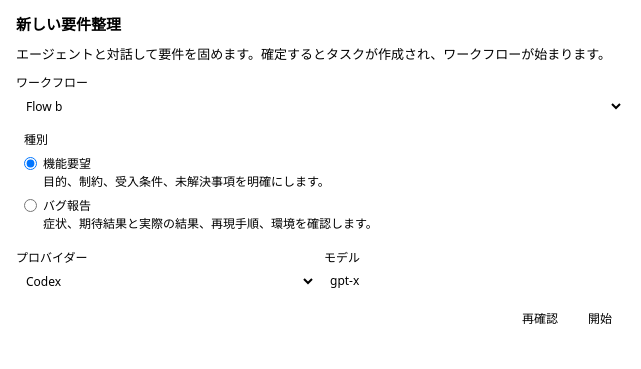
Scenario: IntakeStartForm › defaults provider and model from the design stage and follows the workflow
Expected: the dropdown named "provider" shows "Codex", left=16, top=268, right=316, bottom=295
Expected: the field named "model" holds "gpt-x", left=324, top=268, right=624, bottom=293
Select "Flow b" in the dropdown named "workflow" at (320, 106), box left=16, top=93, right=624, bottom=120
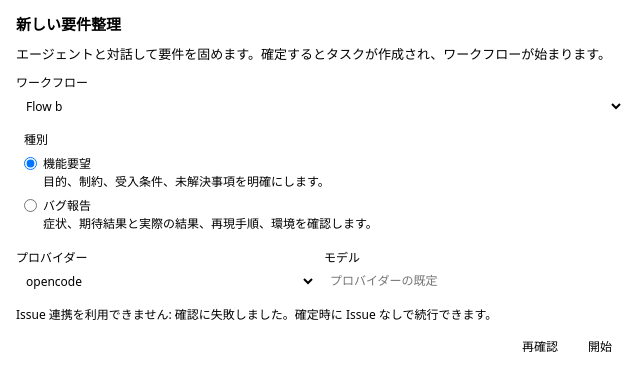
Expected: the dropdown named "provider" shows "opencode", left=16, top=268, right=316, bottom=295
Expected: the field named "model" is empty, left=324, top=268, right=624, bottom=293
